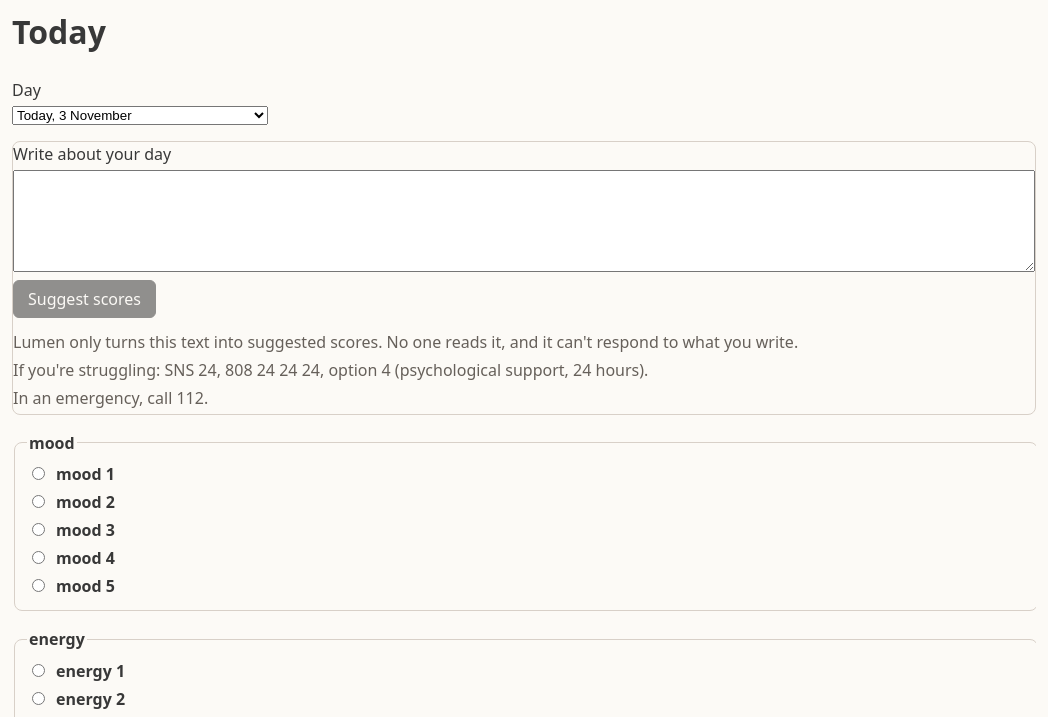
Test: free text › AC-11: offers a suggested tag that isn't on the form yet
Type "marker_note slept badly, stressful meeting" into the text box labelled "Write about your day".
click(524, 221); type("marker_note slept badly, stressful meeting")  # box [13,170,1035,272]
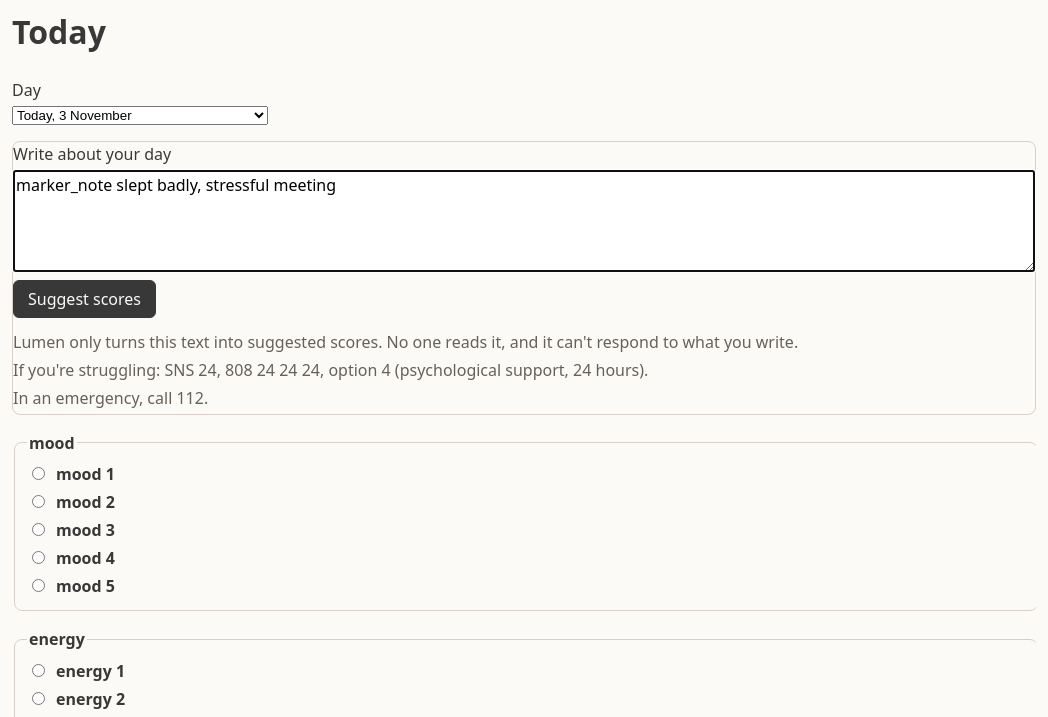
Click the button "Suggest scores".
click(84, 299)  # box [13,280,156,318]
(page scrolled)
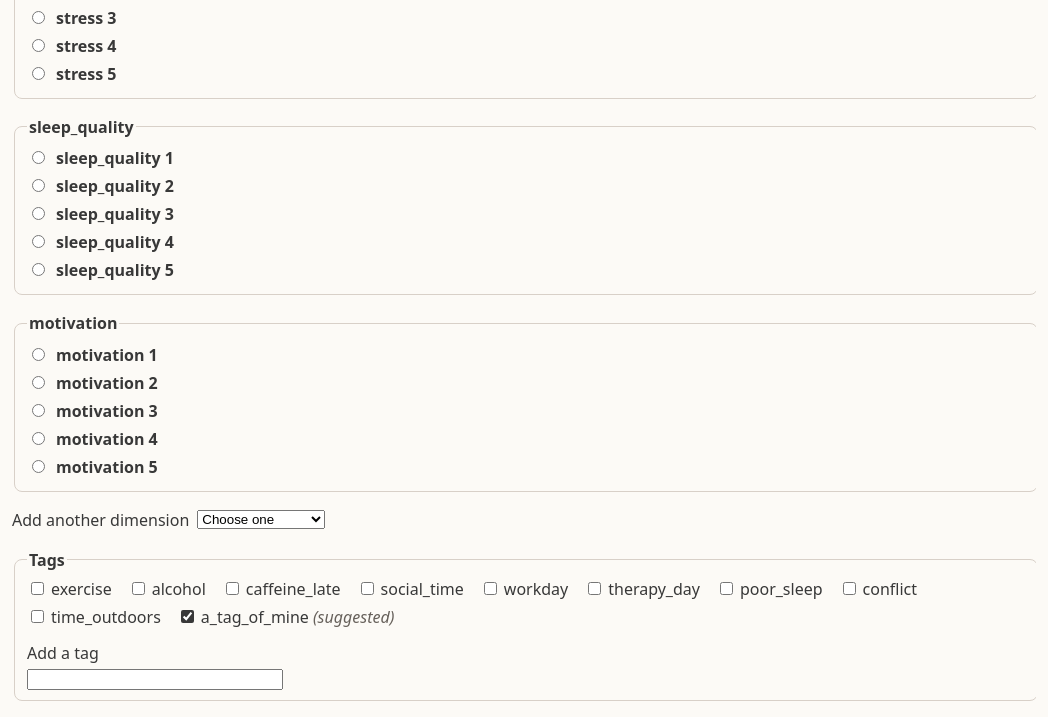
Expected: the checkbox labelled "a_tag_of_mine (suggested)" is checked, [181,610,194,623]
